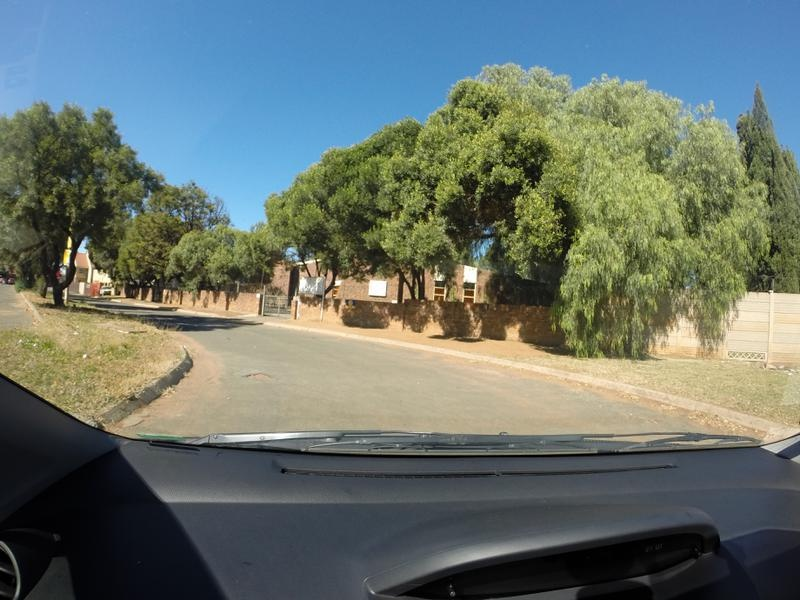pothole: (236, 371, 273, 382)
